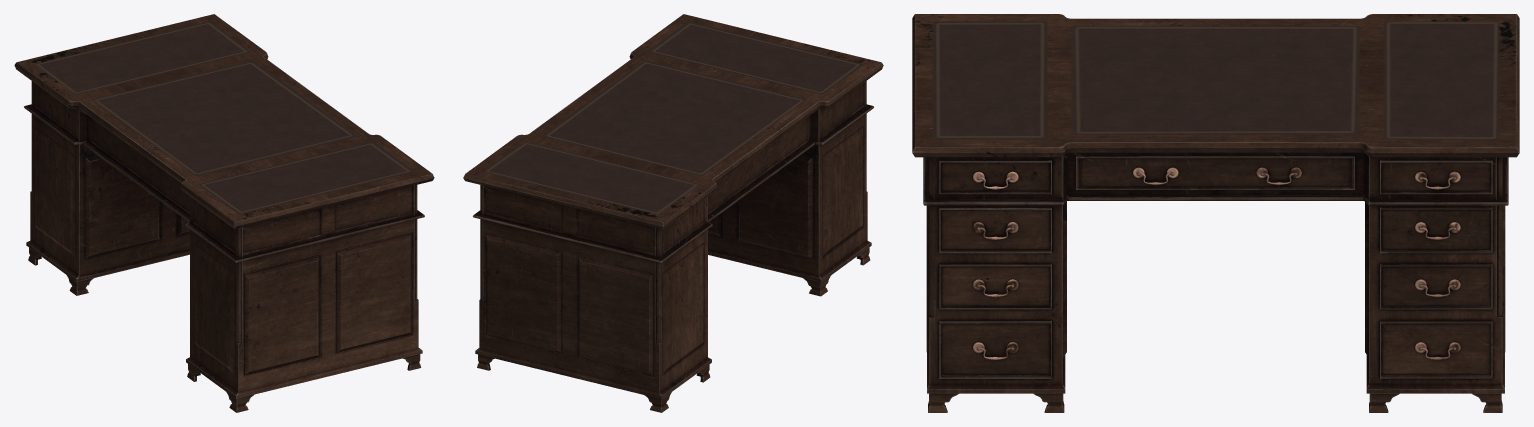
File: desk-model.glb
3 renders of one model, left to right at view 1: azimuth 30°, elevation 25°; view 2: azimuth 150°, elevation 25°; view 3: azimuth 270°, elevation 25°, orthographic. The views are drawn at different scales.
Visible parts, largest first — view 1: Cube121, Cube122, Cube123, Cylinder004; view 2: Cube121, Cube122, Cube123, Cylinder004; view 3: Cube122, Cube121, Cube127, Cube136, Cube126, Cube134, Cube133, Cube132, Cube125, Cube123, Cube135, Cube124 (+1 smaller).
Part boxes in pixels (box(x1,y1,x2,y2)): Cube121: box(26, 82, 422, 398); Cube122: box(14, 14, 434, 229); Cube123: box(24, 104, 424, 262); Cylinder004: box(31, 81, 417, 343); Cube121: box(475, 81, 871, 399); Cube122: box(463, 14, 883, 229); Cube123: box(473, 104, 873, 263); Cylinder004: box(480, 81, 866, 343); Cube122: box(912, 14, 1519, 157); Cube121: box(926, 152, 1505, 393); Cube127: box(1076, 156, 1354, 189); Cube136: box(939, 320, 1051, 378); Cube126: box(1380, 320, 1492, 378); Cube134: box(939, 207, 1051, 253); Cube133: box(1380, 207, 1492, 253); Cube132: box(1380, 264, 1492, 309); Cube125: box(939, 264, 1051, 309); Cube123: box(923, 157, 1508, 205); Cube135: box(939, 160, 1051, 194); Cube124: box(1380, 160, 1492, 194).
Bounding box in the file's own units: 2.22 × 2.08 × 4.24.
1 material, 1 textured.
